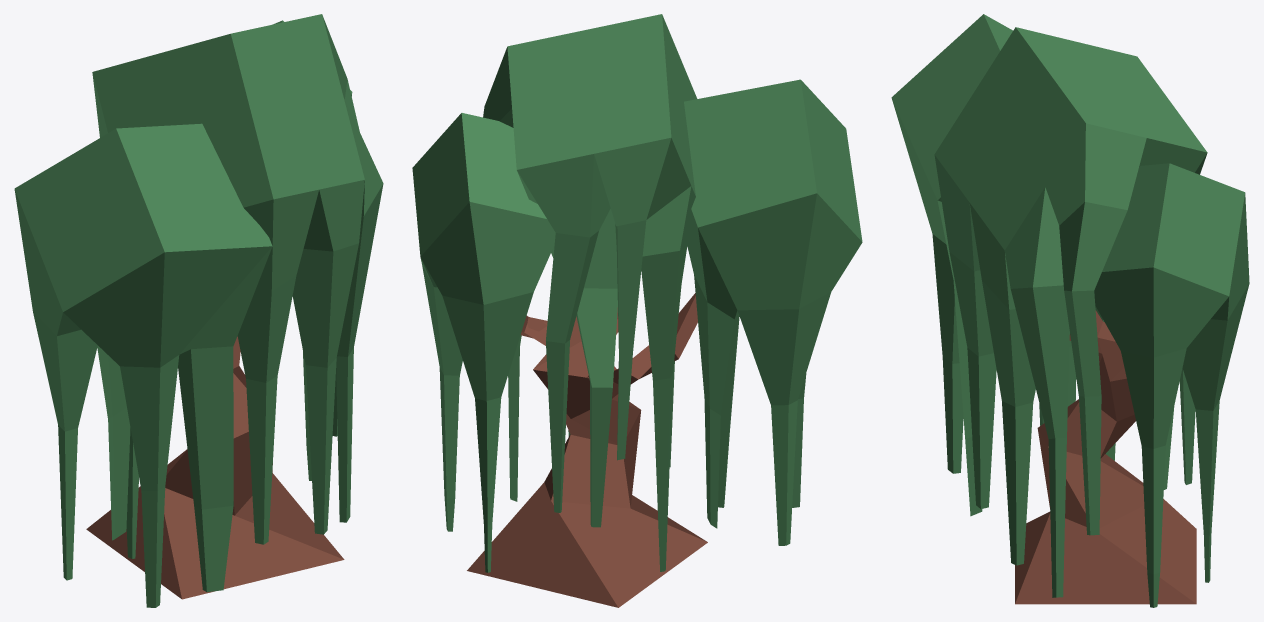
File: Willow_tree_v1_exp_01.fbx
The picture shows the model from 3 angles, left to right: view 1: azimuth 30°, elevation 25°; view 2: azimuth 150°, elevation 25°; view 3: azimuth 270°, elevation 25°; orthographic projection. The views are drawn at different scales.
Parts seen in each view (by area): view 1: trees_and_grass_broken_maya:tree_trunk_3; view 2: trees_and_grass_broken_maya:tree_trunk_3; view 3: trees_and_grass_broken_maya:tree_trunk_3.
Part boxes in pixels (<box>): trees_and_grass_broken_maya:tree_trunk_3: <box>14,14,383,607</box>; trees_and_grass_broken_maya:tree_trunk_3: <box>412,14,862,607</box>; trees_and_grass_broken_maya:tree_trunk_3: <box>891,14,1249,607</box>.
Size of the model in its own units: 881 by 1209 by 748.
